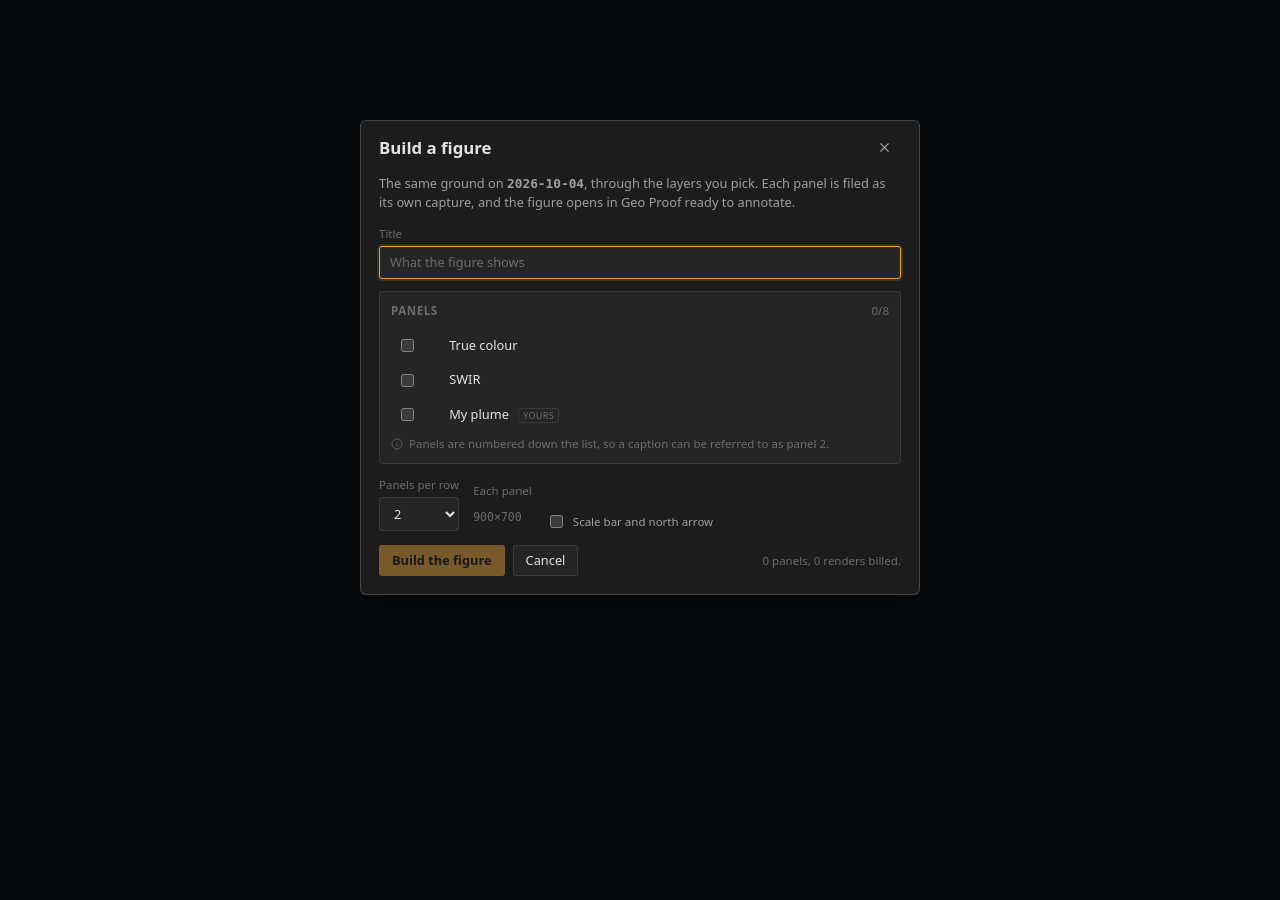
Test case: builds nothing until a layer is picked and the figure is named
The width and height of the screenshot is (1280, 900).
Check: the button "Build the figure" is disabled, box [379,545,505,576]
Click the checkbox labelled "True colour": (408, 346) [401,339,414,352]
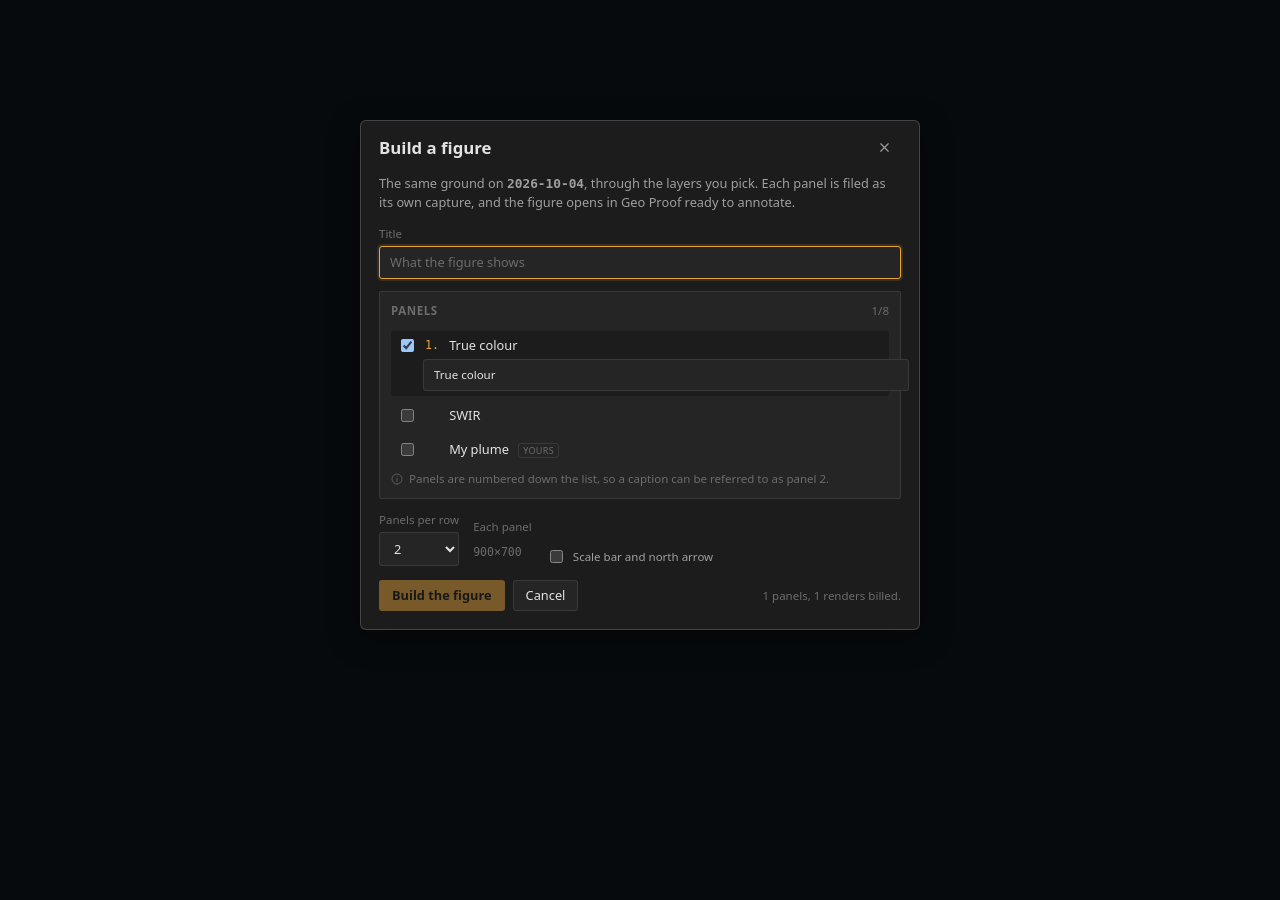
Check: the button "Build the figure" is disabled, box [379,580,505,611]
In the field named "Figure title": (640, 262) [379,246,901,279], type "Fujairah plume"
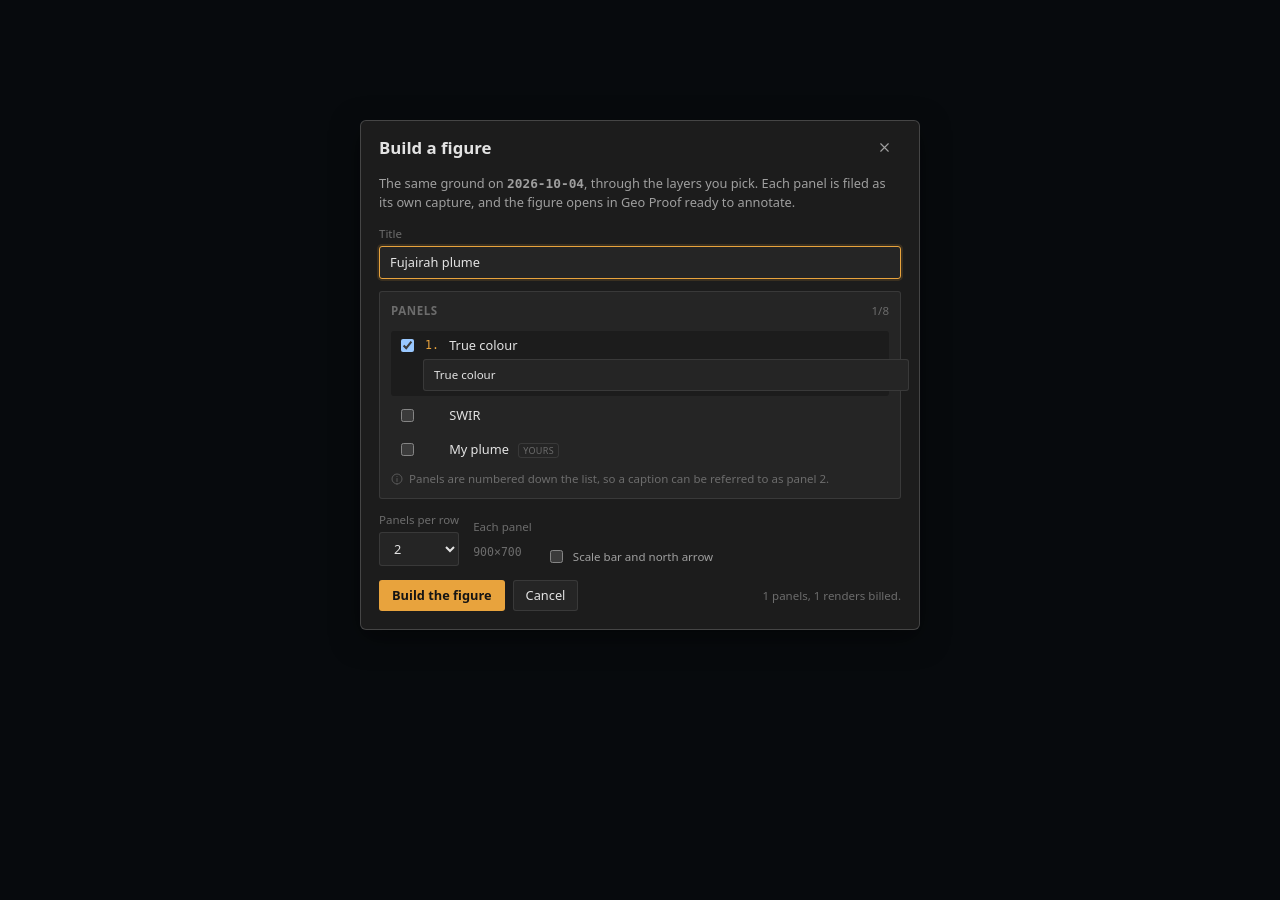
Check: the button "Build the figure" is enabled, box [379,580,505,611]
